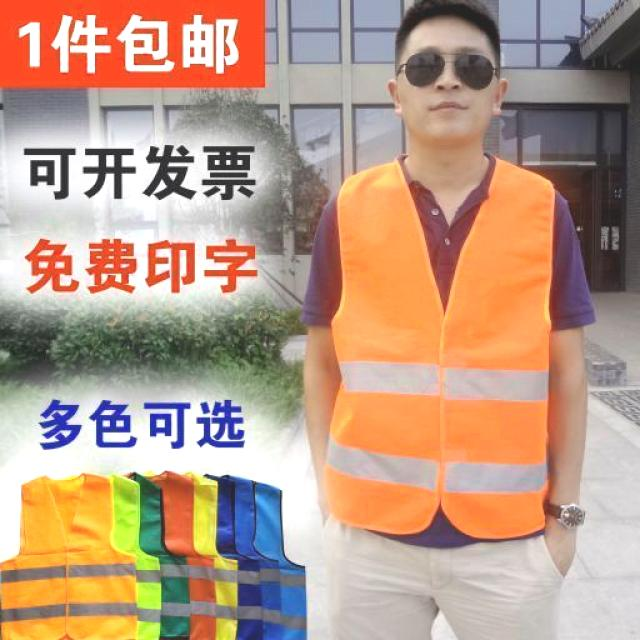face_nomask: (394, 41, 498, 130)
glasses: (400, 46, 495, 94)
head_nohelmet: (382, 0, 514, 44)
person: (298, 0, 604, 640)
vest: (328, 150, 560, 540)
